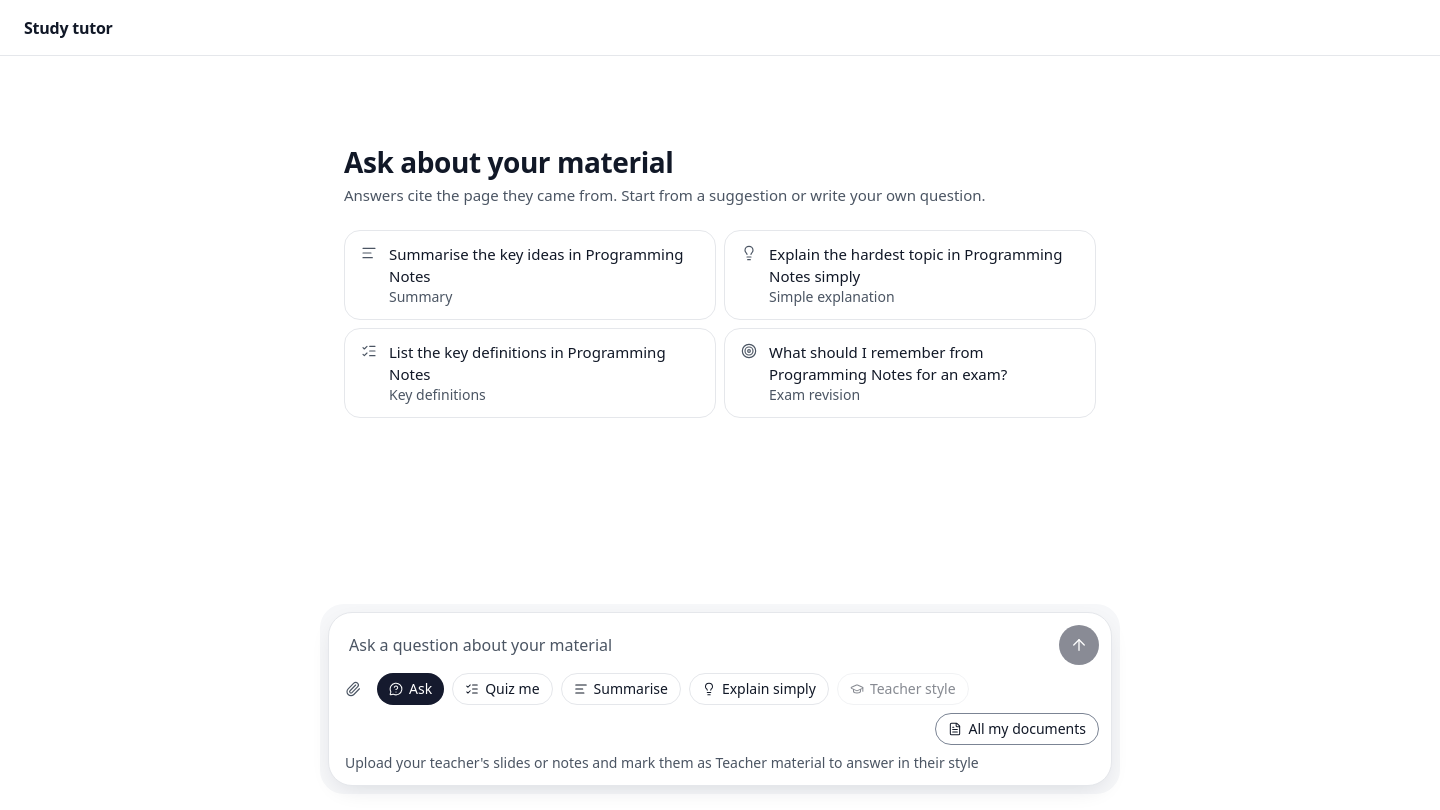
Test case: TutorView: adding material from the chat › says why a link could not be added and keeps it in the box to fix
Type "http://127.0.0.1/admin" into the text box named "Your question" at [694, 645], box 341,625 -> 1047,665
Then press Enter
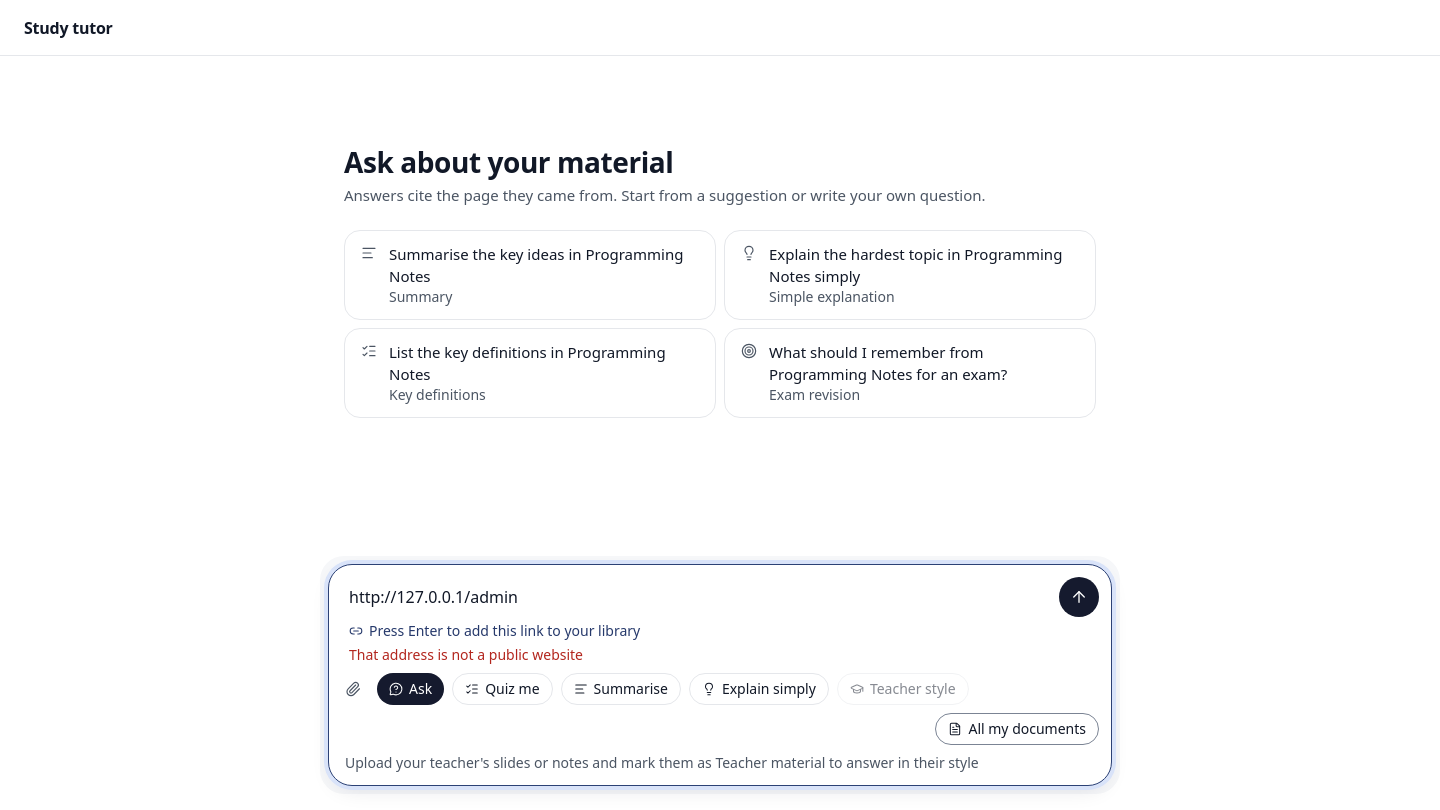
Result: the text "That address is not a public website" is shown at 349,645 -> 583,664
